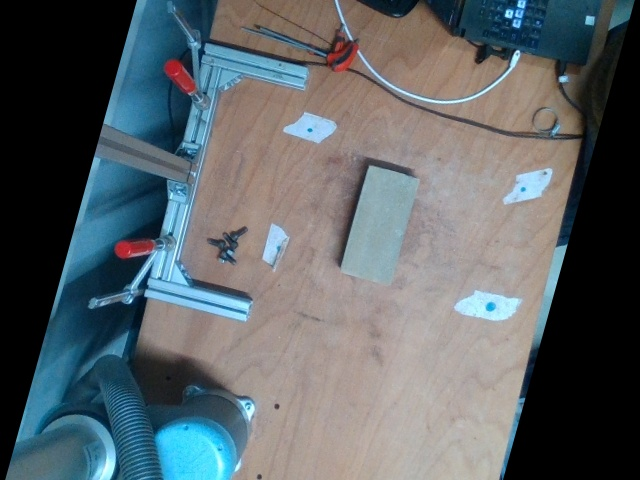brick: (341, 166, 417, 284)
